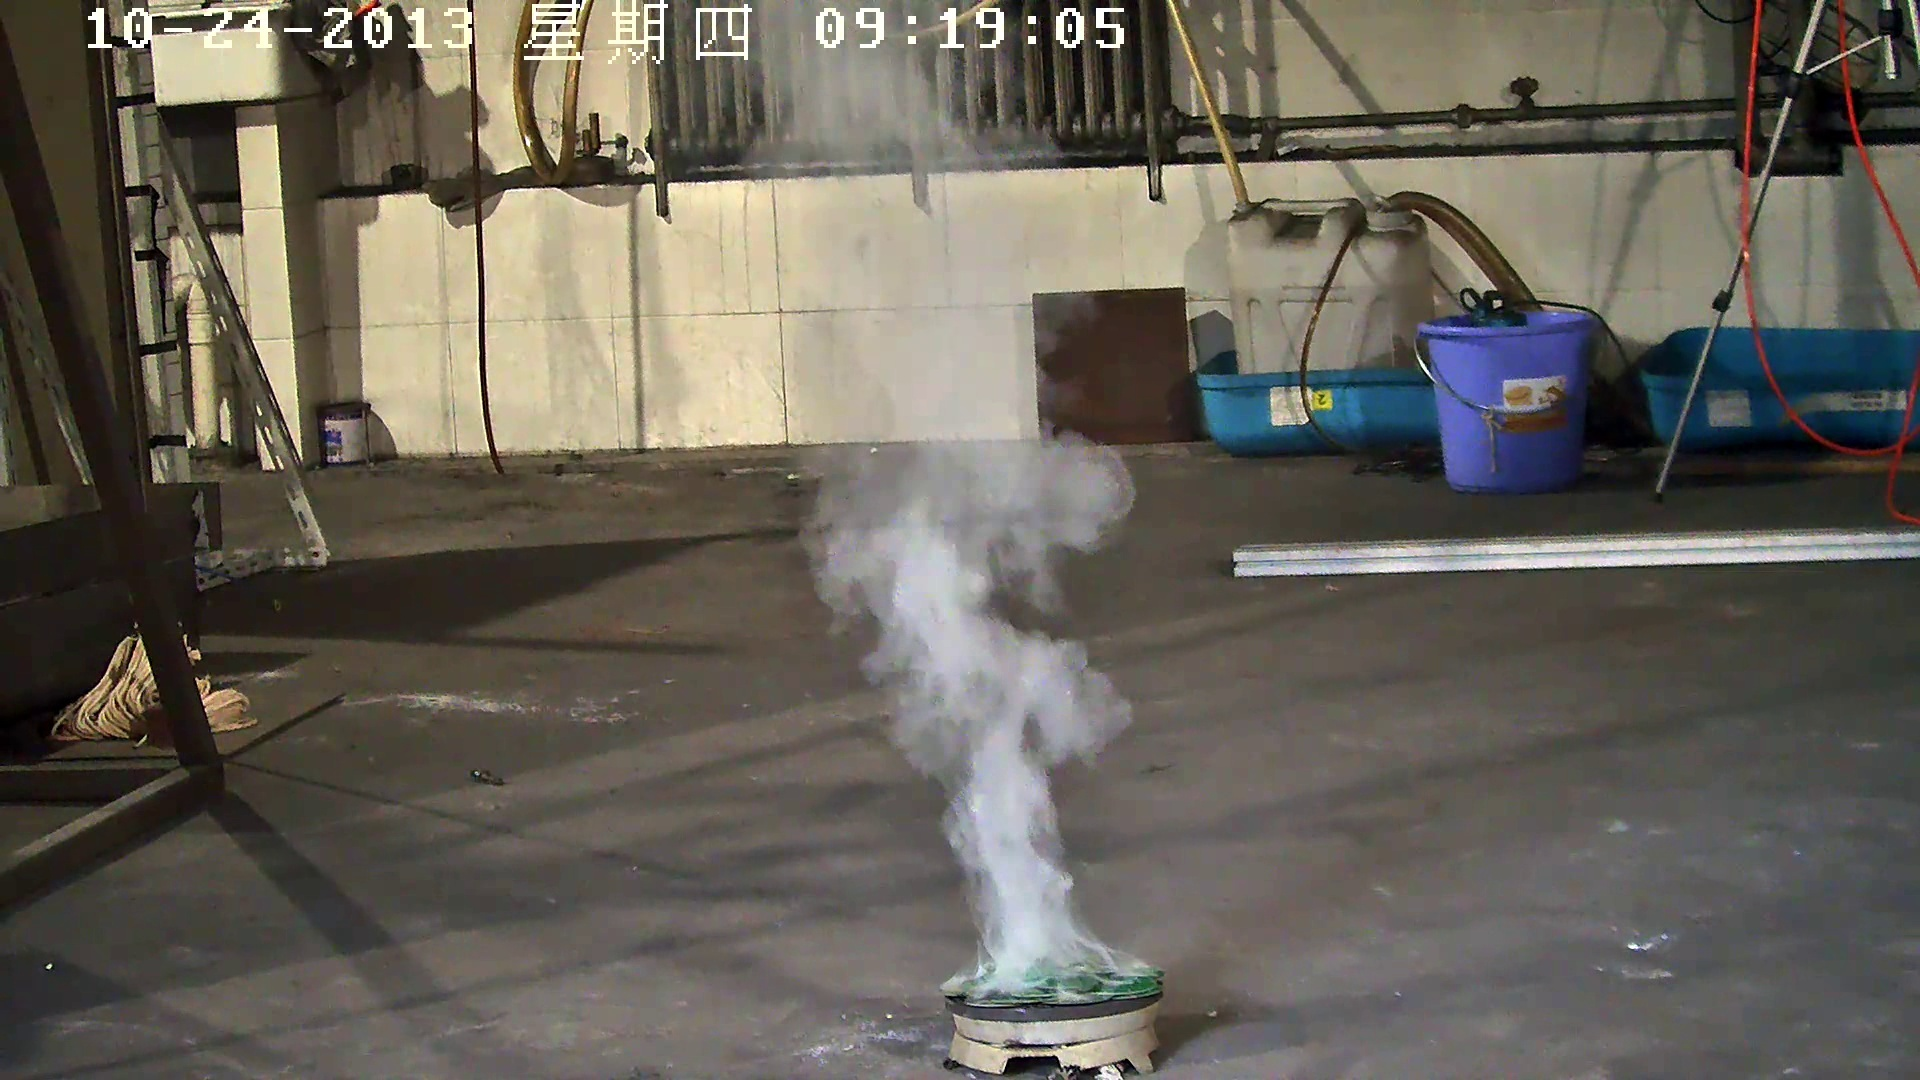smoke: (713, 80, 1193, 1007)
